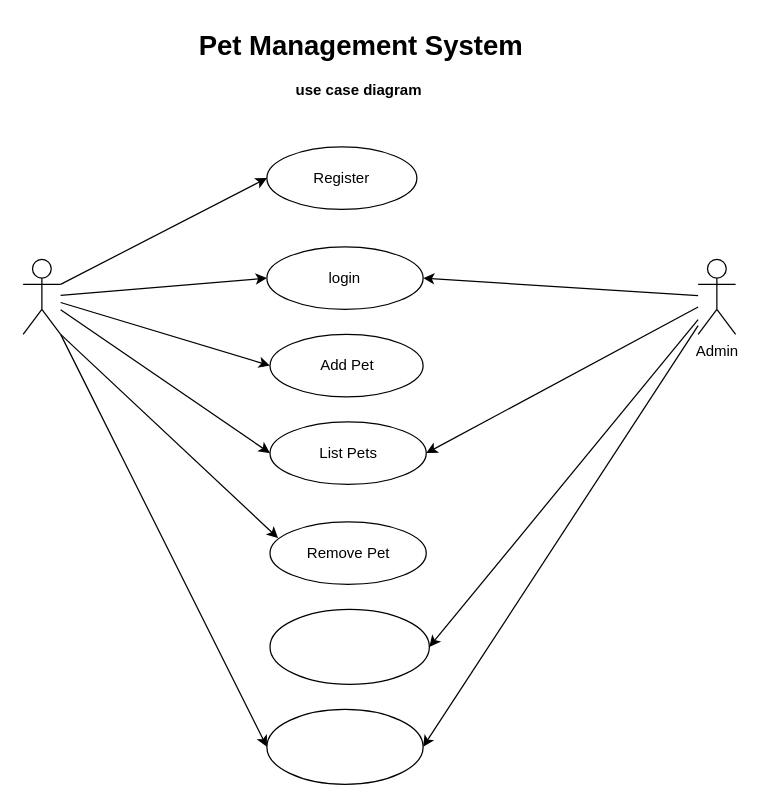
Image size: 760x806. Some labels were removed from this diagram. Each missing label, with the centre of its shape:
"Change Password" belongs at pixel 344 746.
"List Owners" belongs at pixel 349 646.
"owner" belongs at pixel 41 296.
